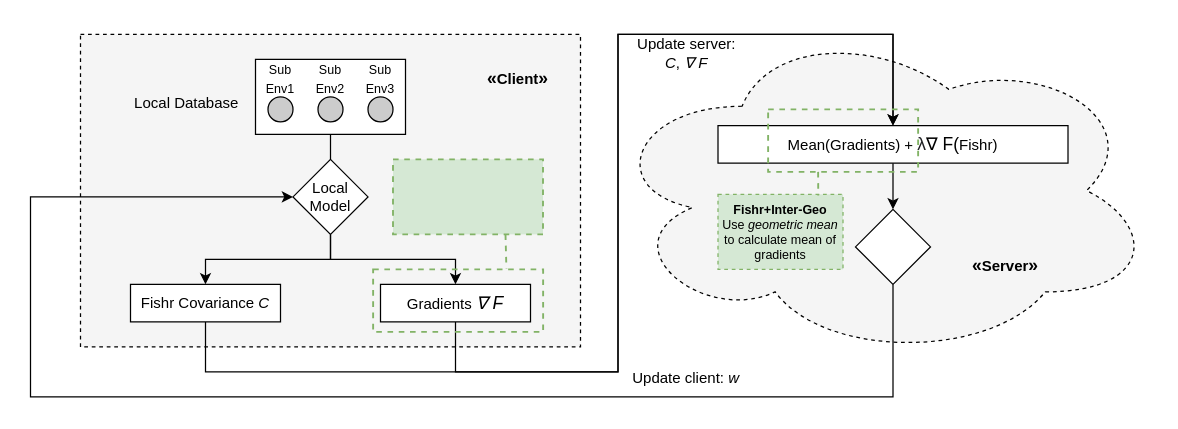
The diagram is 1178 pixels wide and 429 high, and some of its shapes have lost their labels. Each missing label, with the centre of its shape:
"Fishr+Intra-Geo Use geometric mean to calculate output of gradients" goes at point 467,196.
"Global Model" goes at point 892,246.
